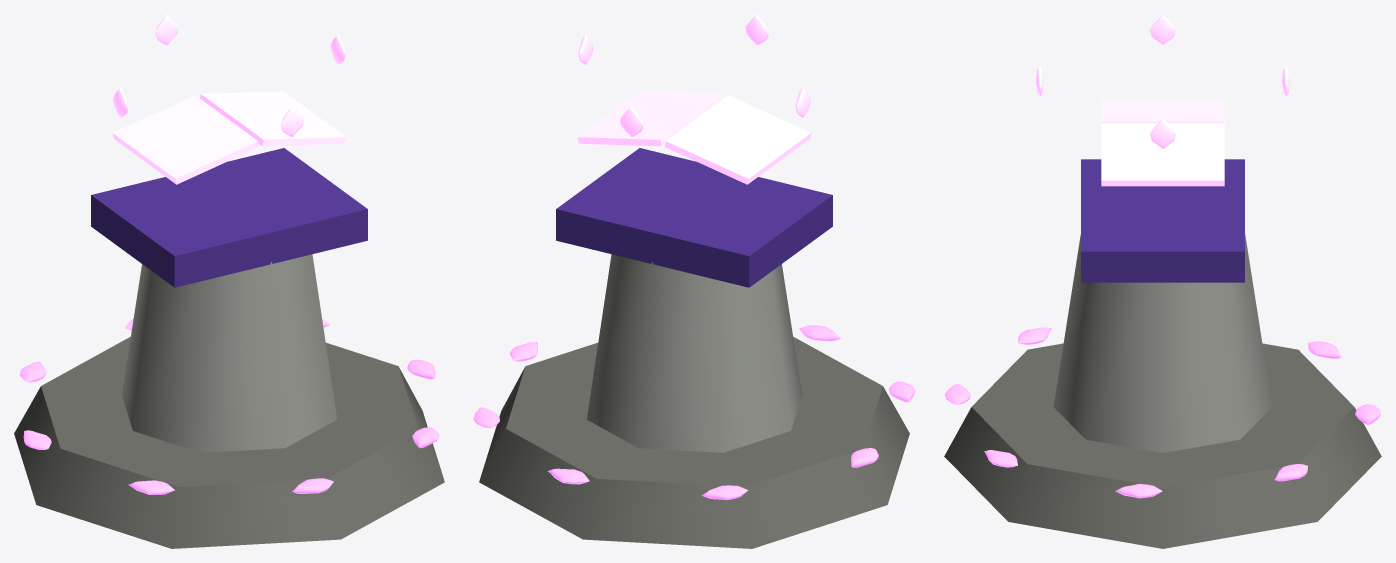
The model's file is EnchantAltar.glb.
3 views of the same model, side by side, from view 1: azimuth 30°, elevation 25°; view 2: azimuth 150°, elevation 25°; view 3: azimuth 270°, elevation 25° (orthographic).
Parts seen in each view (by area): view 1: Body, HoverBook, Glow; view 2: Body, HoverBook, Glow; view 3: Body, HoverBook, Glow.
Boxes of the visible parts, bbox=[...] form: Body: bbox=[14, 148, 444, 548]; HoverBook: bbox=[112, 14, 346, 184]; Glow: bbox=[20, 318, 438, 494]; Body: bbox=[479, 148, 909, 548]; HoverBook: bbox=[577, 14, 811, 184]; Glow: bbox=[473, 325, 915, 499]; Body: bbox=[944, 159, 1381, 548]; HoverBook: bbox=[1035, 14, 1290, 186]; Glow: bbox=[944, 327, 1381, 498].
Bounding box in the file's own units: 3.2 × 3.15 × 3.2.
Materials: 3 (1 with a texture image).
